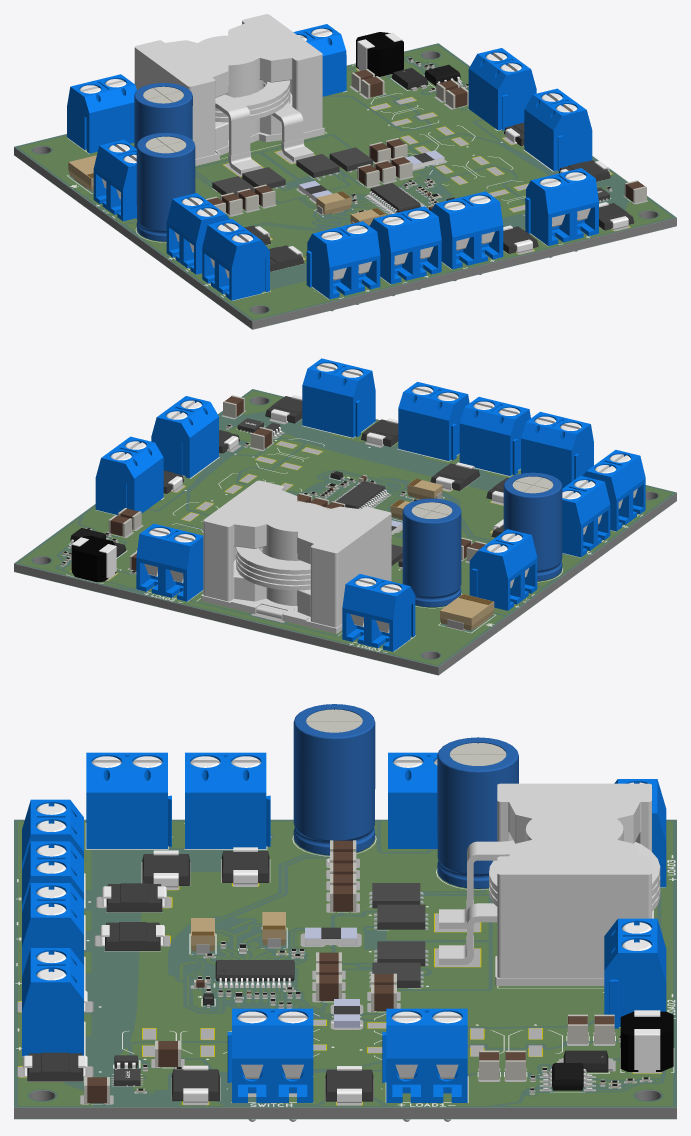
File: simple-board.glb
The picture shows the model from 3 angles, top to bottom: view 1: azimuth 30°, elevation 25°; view 2: azimuth 150°, elevation 25°; view 3: azimuth 270°, elevation 25°; orthographic projection. The views are drawn at different scales.
Visible parts, largest first — view 1: =>[0:1:1:27], =>[0:1:1:23], NAUO5, =>[0:1:1:29], C7, J5, J2, NAUO4, J8, J10, J6, J3 (+22 smaller); view 2: =>[0:1:1:27], =>[0:1:1:23], =>[0:1:1:29], NAUO5, C8, J2, J10, C7, NAUO3, J11, J3, J4 (+18 smaller); view 3: =>[0:1:1:27], =>[0:1:1:23], =>[0:1:1:29], NAUO5, C7, C8, J6, J7, J8, J9, J2, =>[0:1:1:24] (+37 smaller).
Boxes of the visible parts, x1,y1,x2,y2 form: =>[0:1:1:27]: (14,43,676,321); =>[0:1:1:23]: (19,45,671,318); NAUO5: (134,14,322,123); =>[0:1:1:29]: (14,44,676,329); C7: (136,132,195,241); J5: (306,221,380,311); J2: (525,168,598,257); NAUO4: (215,80,313,174); J8: (524,88,592,171); J10: (67,74,136,153); J6: (202,219,269,300); J3: (431,191,503,281); =>[0:1:1:27]: (14,389,676,666); =>[0:1:1:23]: (19,391,671,664); =>[0:1:1:29]: (14,390,676,675); NAUO5: (203,480,391,590); C8: (402,498,461,607); J2: (302,358,375,437); J10: (342,574,415,651); C7: (503,472,562,581); NAUO3: (203,546,391,627); J11: (136,523,203,601); J3: (398,382,469,460); J4: (459,397,530,475); =>[0:1:1:27]: (14,819,676,1107); =>[0:1:1:23]: (18,822,672,1105); =>[0:1:1:29]: (14,820,676,1118); NAUO5: (497,783,651,926); C7: (293,704,375,855); C8: (437,737,518,888); J6: (86,752,171,848); J7: (185,752,270,848); J8: (227,1008,313,1121); J9: (382,1008,467,1121); J2: (22,948,83,1056); =>[0:1:1:24]: (18,858,660,1105).
Size of the model in its own units: 0.0836 by 0.0202 by 0.0814.
